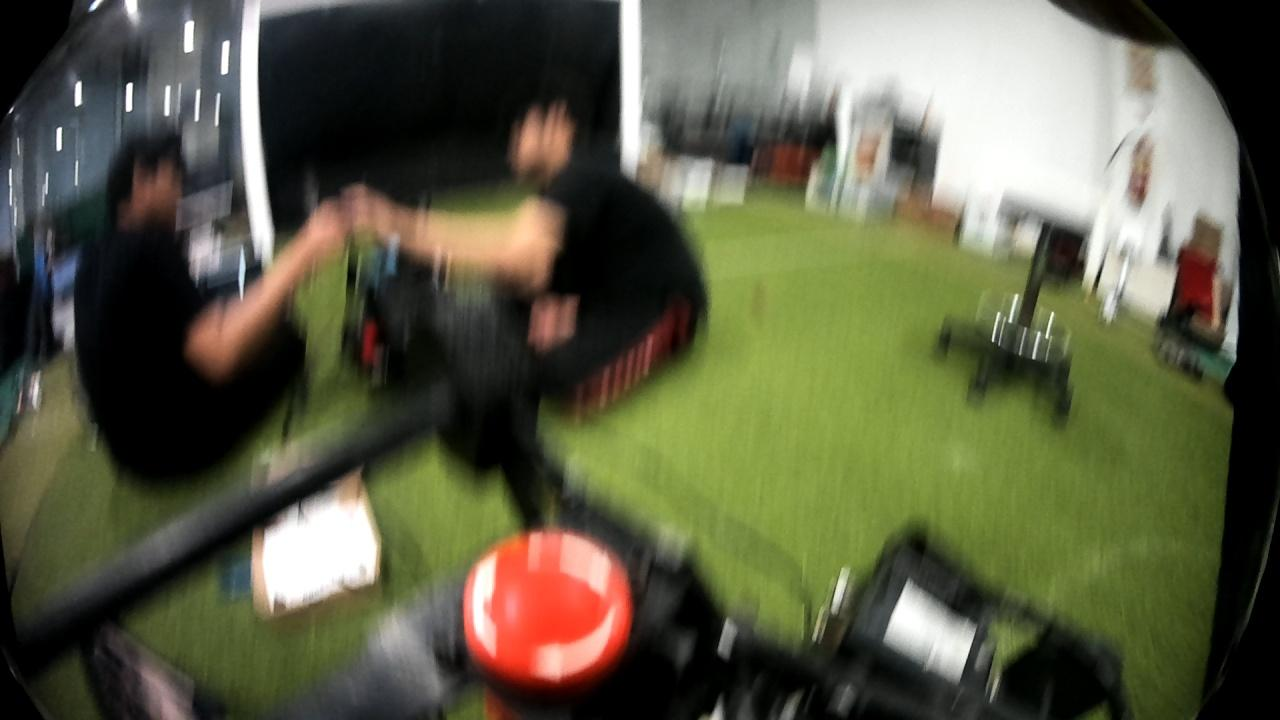ball: (1097, 289, 1121, 328)
